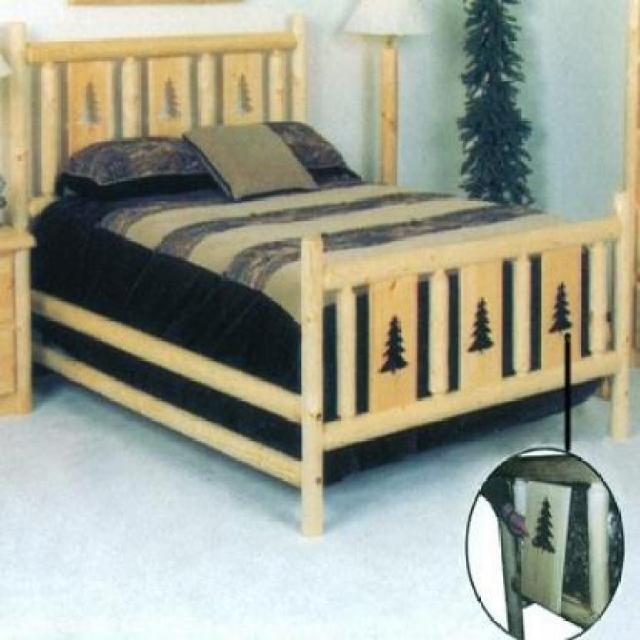Bed: (1, 12, 640, 552)
